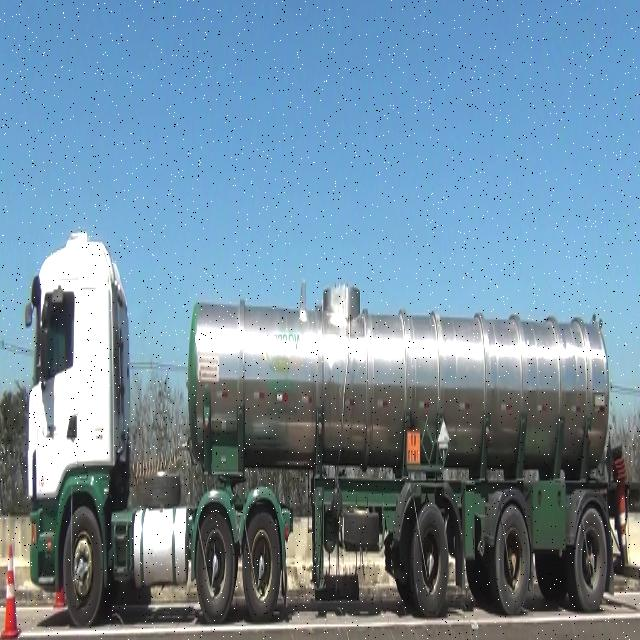-axle: (63, 503, 102, 629), (197, 506, 233, 624), (241, 511, 279, 618), (412, 508, 448, 614), (573, 504, 607, 610), (496, 503, 529, 612)
